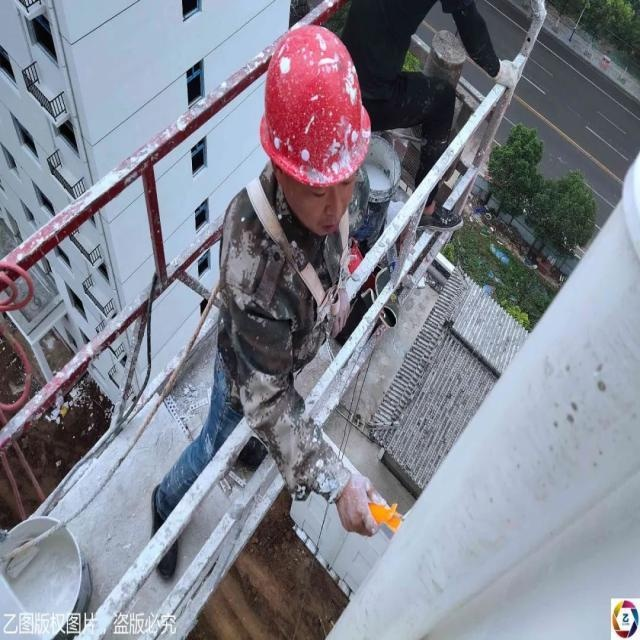Arnes_seguridad: (235, 159, 357, 333)
